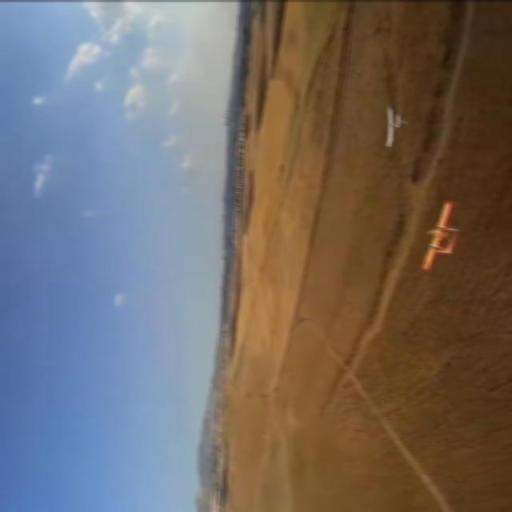uav: (420, 199, 460, 270), (380, 104, 408, 146)
